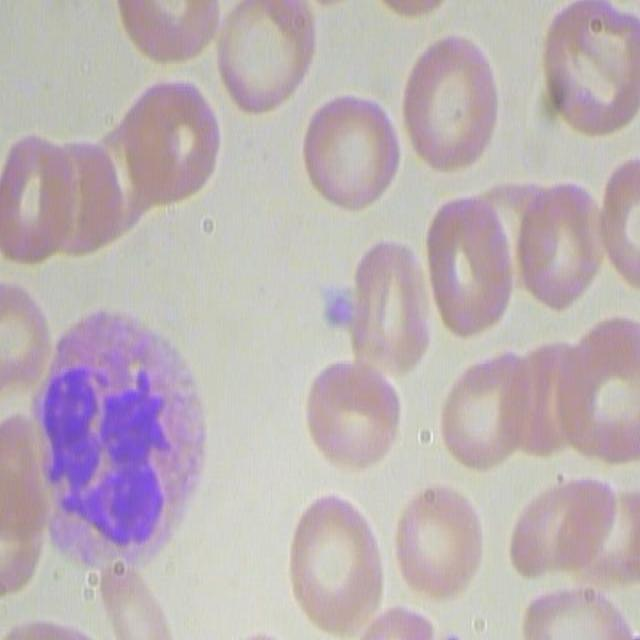RBC: (508, 454, 638, 603), (533, 316, 637, 471), (419, 186, 520, 344), (108, 72, 221, 211), (400, 25, 502, 175), (284, 486, 384, 636), (532, 0, 638, 141), (506, 171, 606, 310), (343, 238, 436, 379), (210, 0, 318, 119), (300, 88, 402, 214), (436, 349, 534, 476), (4, 150, 127, 250), (300, 358, 400, 474), (391, 484, 488, 602), (2, 430, 55, 610), (516, 579, 634, 640), (0, 269, 49, 408), (115, 0, 222, 63), (598, 142, 640, 290), (96, 583, 194, 640), (11, 607, 84, 640)
WBC: (34, 304, 212, 578)
platelets: (316, 281, 361, 338)
